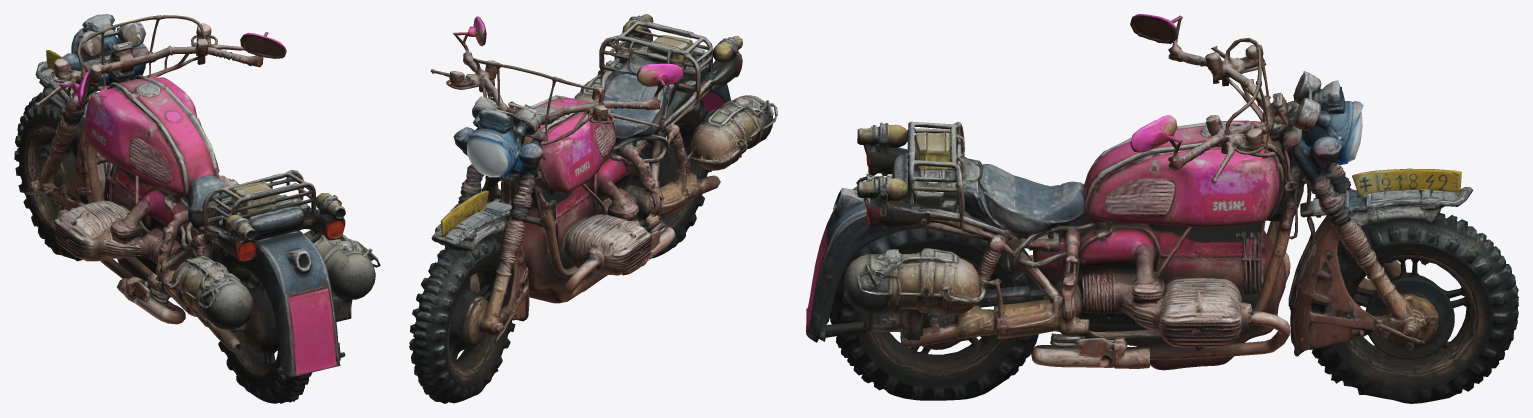
Rendered from bike.glb.
3 renders of one model, left to right at view 1: azimuth 30°, elevation 25°; view 2: azimuth 150°, elevation 25°; view 3: azimuth 270°, elevation 25°, orthographic. The views are drawn at different scales.
Visible parts, largest first — view 1: tripo_node_b9a216b4-75d8-4250-b17d-a450412d3ac8; view 2: tripo_node_b9a216b4-75d8-4250-b17d-a450412d3ac8; view 3: tripo_node_b9a216b4-75d8-4250-b17d-a450412d3ac8.
Boxes of the visible parts, <box> form: tripo_node_b9a216b4-75d8-4250-b17d-a450412d3ac8: <box>14,14,380,403</box>; tripo_node_b9a216b4-75d8-4250-b17d-a450412d3ac8: <box>409,14,777,403</box>; tripo_node_b9a216b4-75d8-4250-b17d-a450412d3ac8: <box>806,14,1518,403</box>.
Bounding box in the file's own units: 0.4385 × 0.506 × 0.9796.
1 material, 1 textured.
